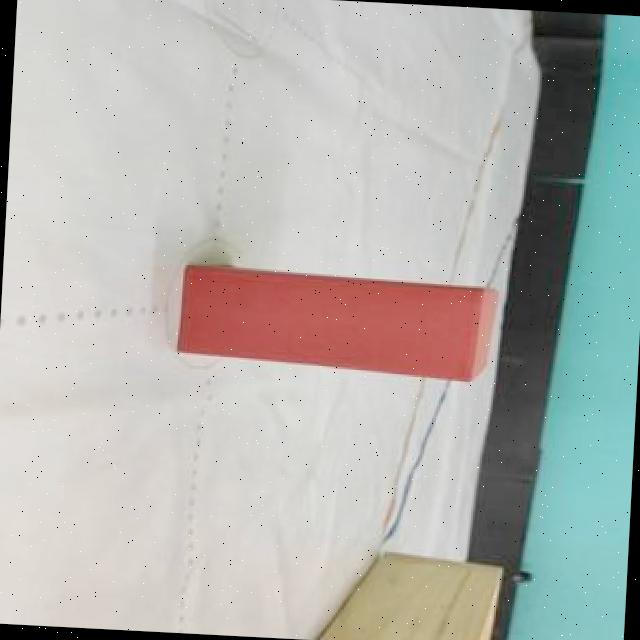redbox: (176, 262, 504, 383)
